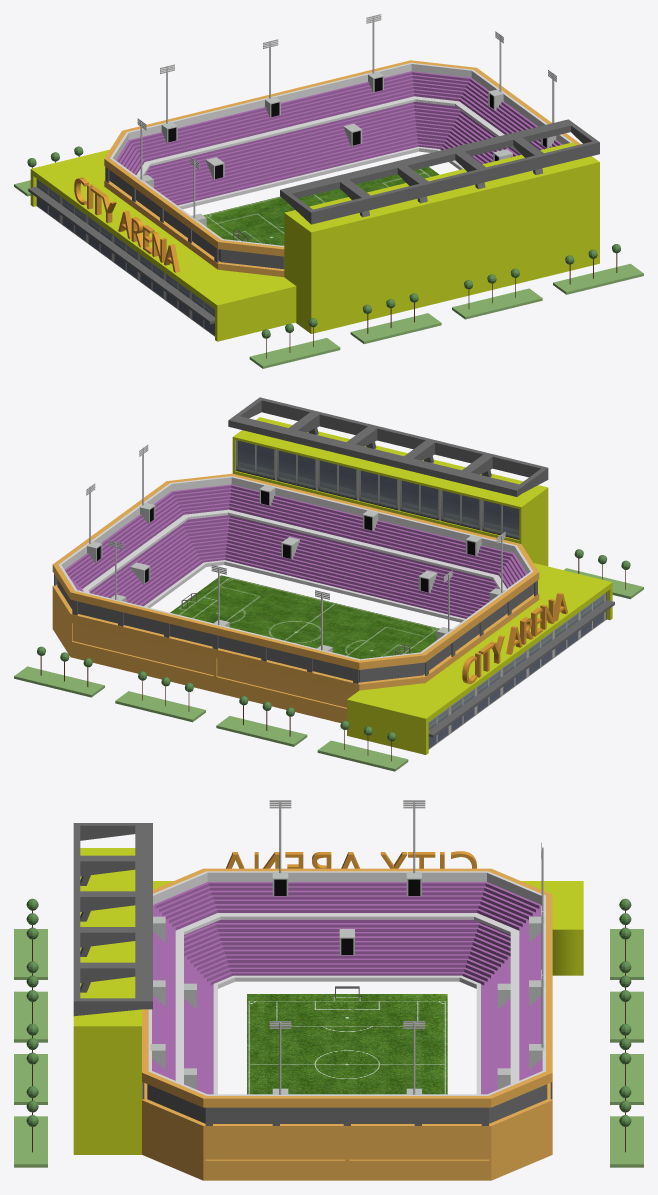
File: arena.fbx
The picture shows the model from 3 angles, top to bottom: view 1: azimuth 30°, elevation 25°; view 2: azimuth 150°, elevation 25°; view 3: azimuth 270°, elevation 25°; orthographic projection. The views are drawn at different scales.
Visible parts, largest first — view 1: arena; view 2: arena; view 3: arena.
Boxes of the visible parts, x1,y1,x2,y2 form: arena: (14, 14, 643, 368); arena: (14, 397, 643, 771); arena: (14, 800, 643, 1180).
Size of the model in its own units: 18086 by 5107 by 18811.
Materials: 1 (1 with a texture image).
